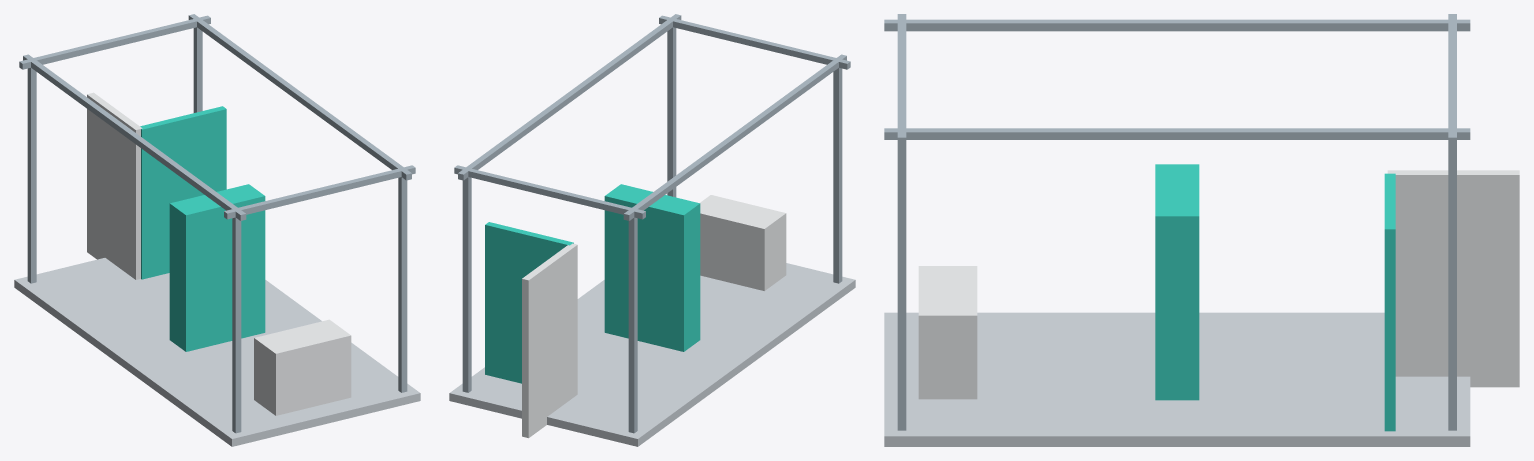
3 renders of one model, left to right at view 1: azimuth 30°, elevation 25°; view 2: azimuth 150°, elevation 25°; view 3: azimuth 270°, elevation 25°, orthographic. The views are drawn at different scales.
Parts seen in each view (by area): view 1: Exhibition Booth Concept; view 2: Exhibition Booth Concept; view 3: Exhibition Booth Concept.
Boxes of the visible parts, left/top/right/bottom form: Exhibition Booth Concept: left=14, top=14, right=420, bottom=446; Exhibition Booth Concept: left=449, top=14, right=855, bottom=446; Exhibition Booth Concept: left=884, top=14, right=1519, bottom=446.
Size of the model in its own units: 3 by 3.49 by 6.51.
